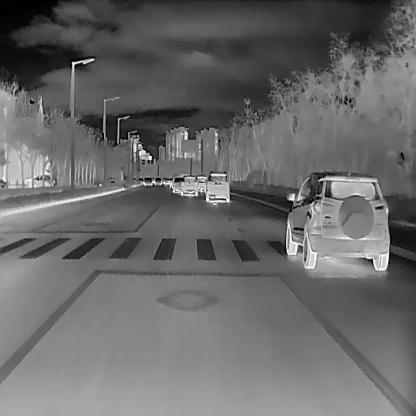car: (285, 170, 389, 270), (204, 170, 229, 201), (180, 174, 198, 196), (32, 173, 54, 187), (195, 174, 207, 192), (172, 176, 182, 192), (144, 177, 152, 185), (155, 176, 161, 184)
